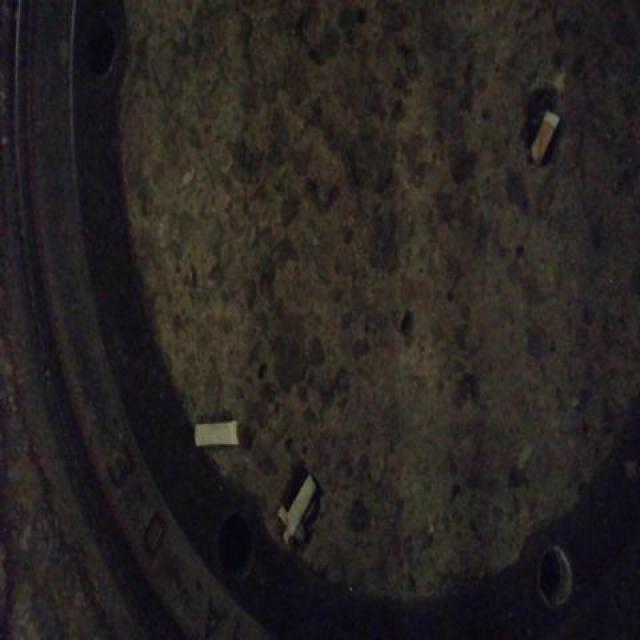non-organic waste: (284, 472, 320, 540), (528, 104, 561, 169), (190, 415, 242, 450)
